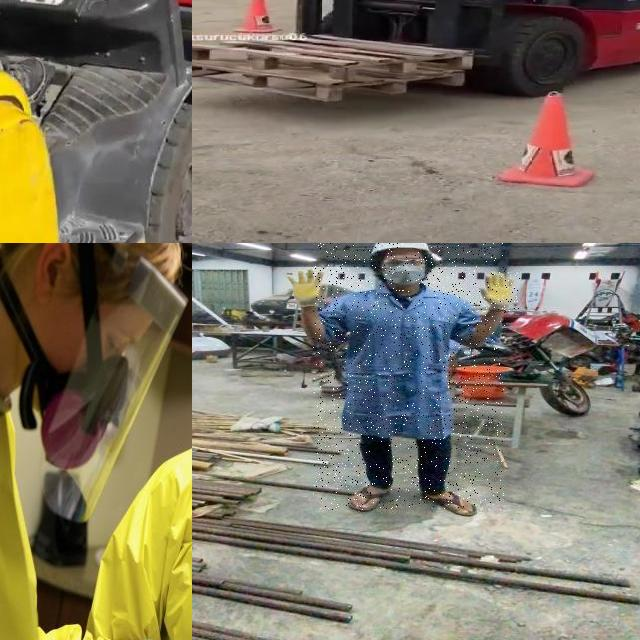GLASS: (381, 258, 427, 268)
GLOVE: (288, 268, 328, 308), (481, 272, 515, 310)
HELMET: (363, 243, 439, 255)
